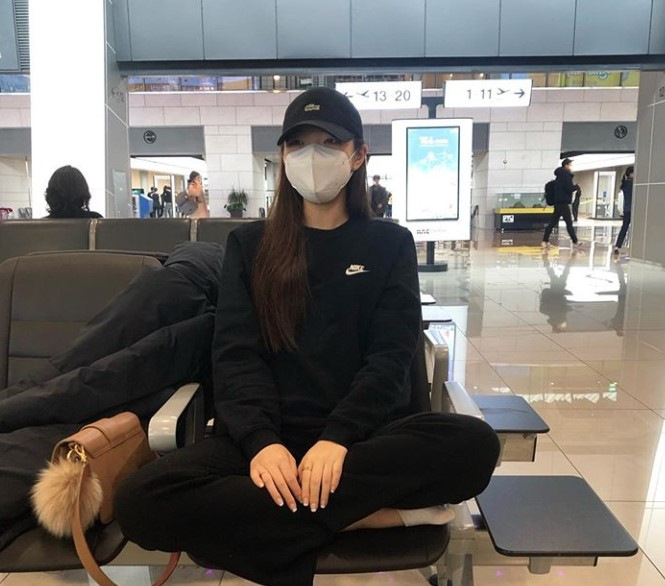face_with_mask: (277, 86, 365, 204)
